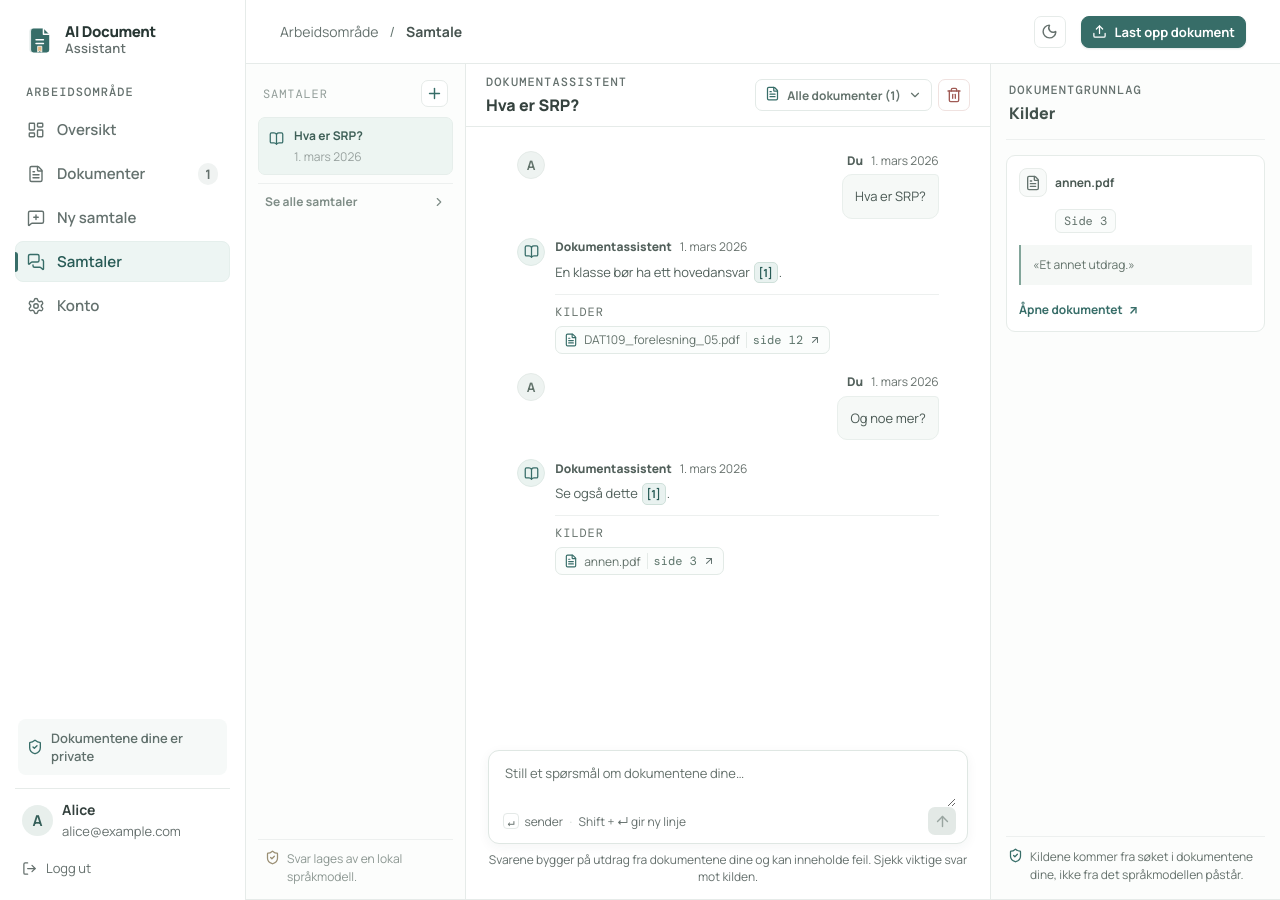
viewing a conversation › switches the Sources panel when another answer's source is clicked
The image size is (1280, 900).
Expected: the text "annen.pdf" below "DOKUMENTGRUNNLAG" is shown, [1055, 174, 1114, 191]
Click the button "DAT109_forelesning_05.pdf side 12" at [693, 340], box [555, 326, 830, 354]
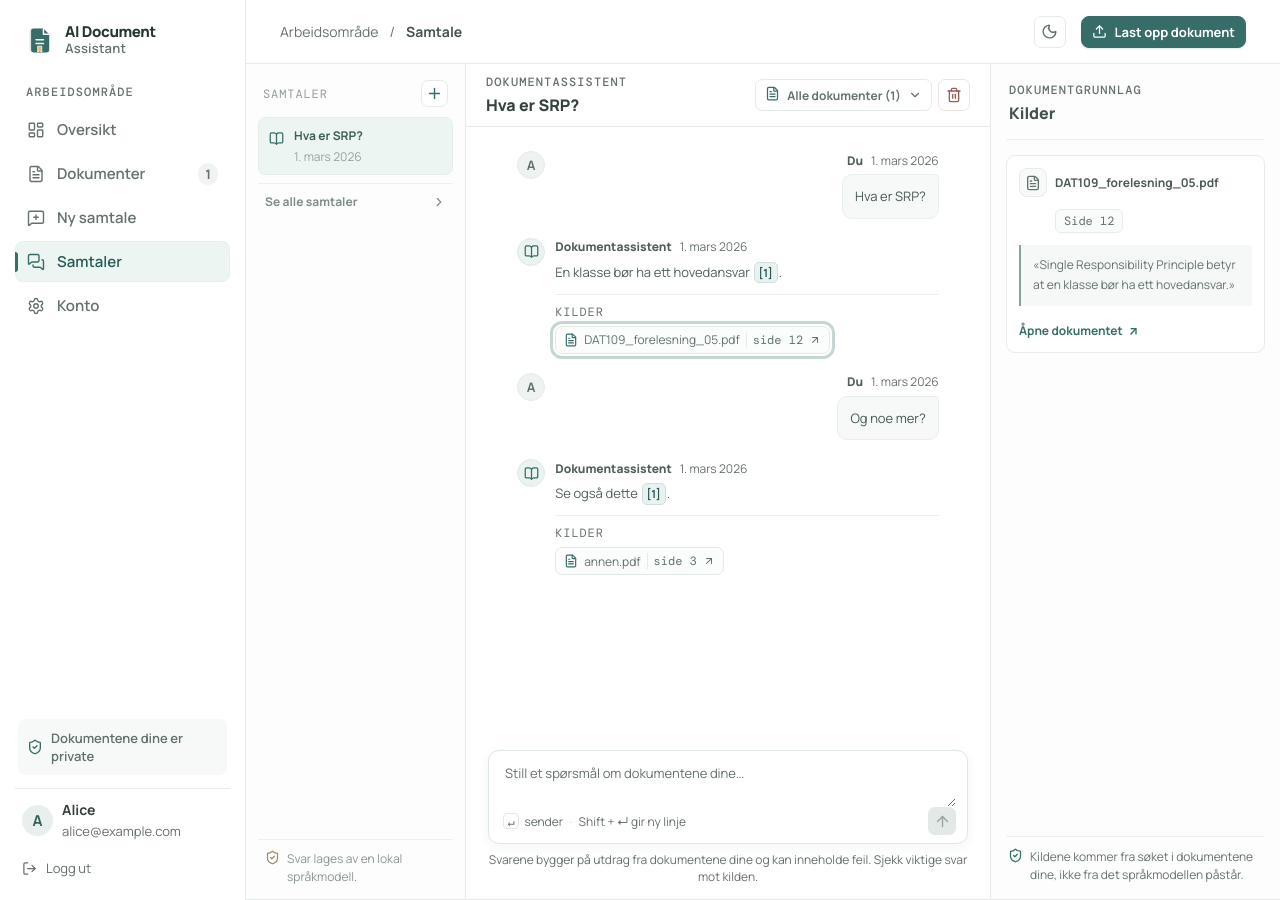
Expected: the text "DAT109_forelesning_05.pdf" below "DOKUMENTGRUNNLAG" is shown, [1055, 174, 1219, 191]
Expected: the text "Side 12" is shown, [1055, 209, 1123, 233]
